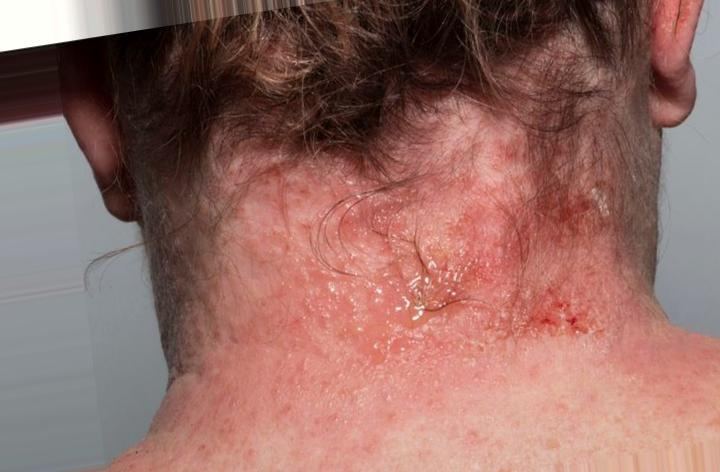Contact Dermatitis: (176, 103, 623, 354)
